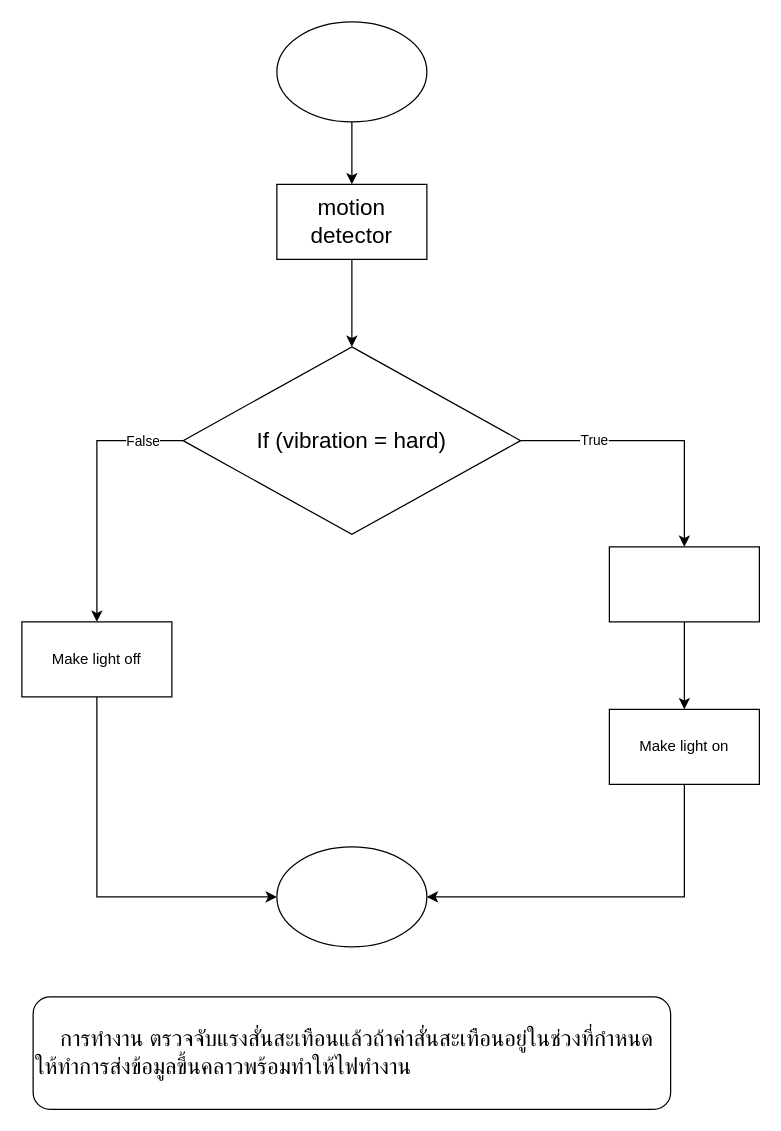
This 781x1131 diagram has some shape labels left out. The shapes that lost their labels are listed below. From the top down, each one's centre as x and y in pixels, then its label:
(x=351, y=71): start
(x=683, y=584): send timestamp to sql server on cloud
(x=351, y=896): end
